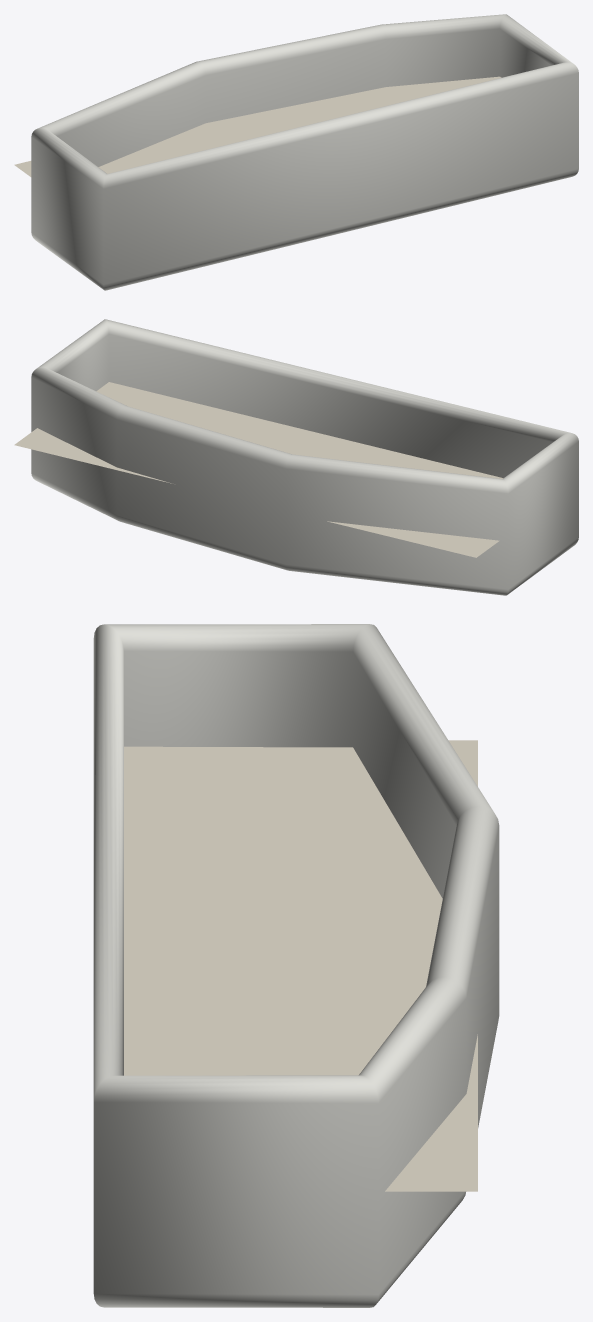
Rendered from e1b01edb-4289-4e55-a041-b787c07ee7ce_model.glb.
3 views of the same model, one above another, from view 1: azimuth 30°, elevation 25°; view 2: azimuth 150°, elevation 25°; view 3: azimuth 270°, elevation 25° (orthographic). The views are drawn at different scales.
Visible parts, largest first — view 1: wall_0, Floor; view 2: wall_0, Floor; view 3: wall_0, Floor.
Boxes of the visible parts, x1,y1,x2,y2 form: wall_0: (31, 14, 578, 290); Floor: (14, 76, 501, 176); wall_0: (31, 319, 578, 595); Floor: (14, 382, 503, 557); wall_0: (93, 624, 499, 1307); Floor: (124, 740, 477, 1191).
Size of the model in its own units: 31.35 by 7.22 by 11.54.
